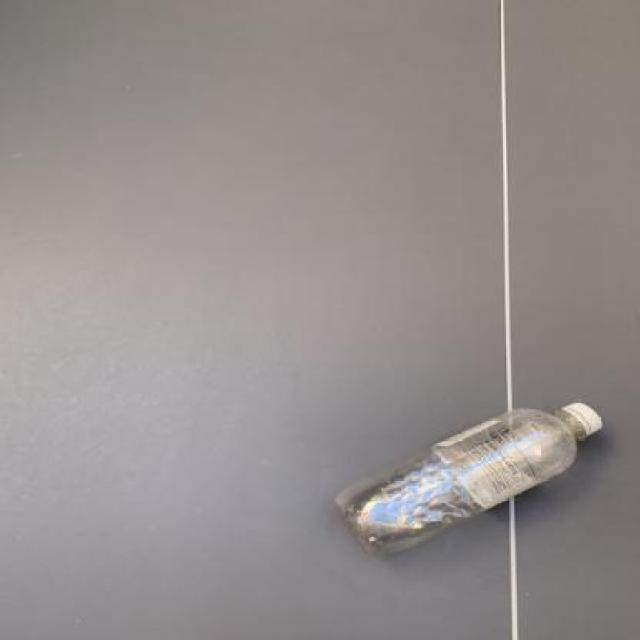trash: (335, 402, 602, 556)
